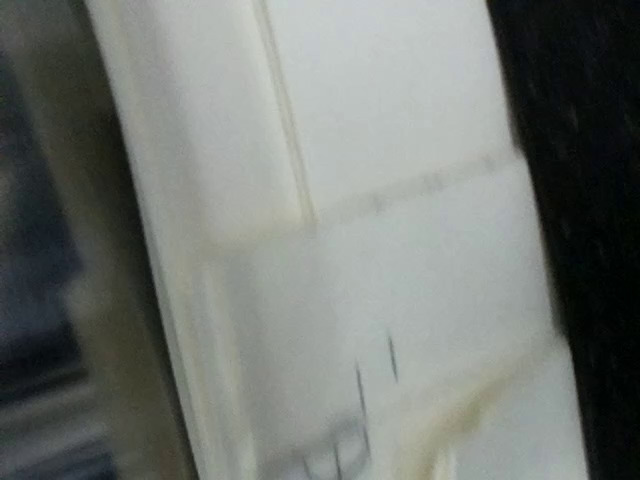not_sure: (258, 364, 382, 480)
